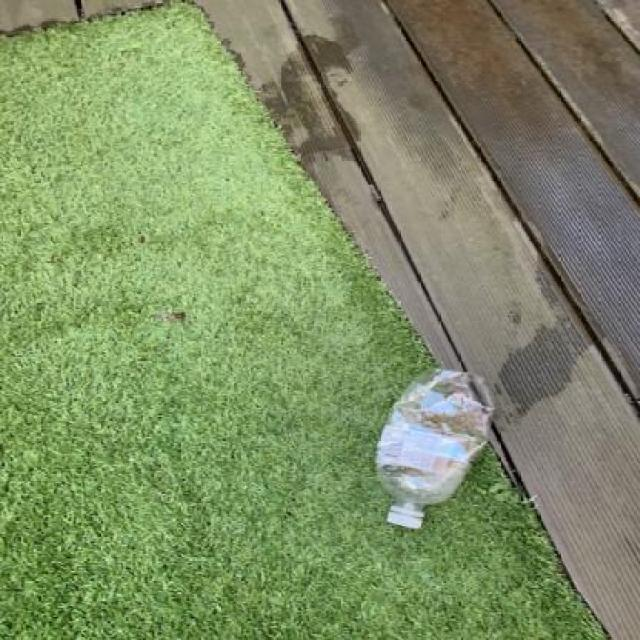trash: (368, 364, 498, 531)
